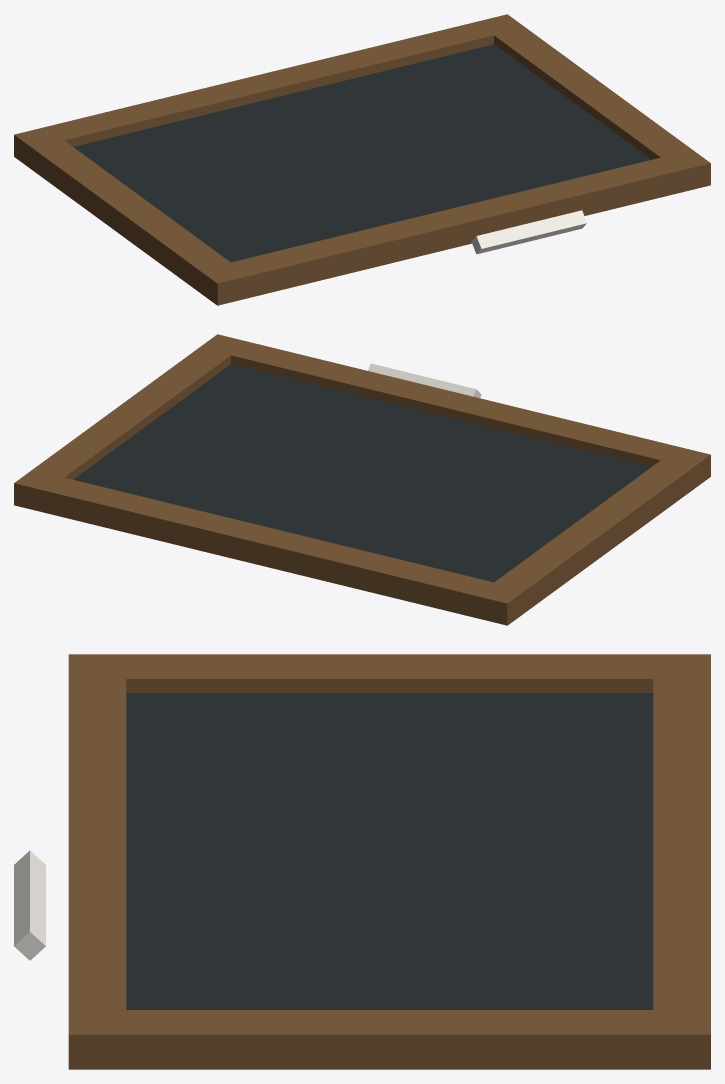
The model's file is Prop_YTM_Slate_LOD1.glb.
3 renders of one model, top to bottom at view 1: azimuth 30°, elevation 25°; view 2: azimuth 150°, elevation 25°; view 3: azimuth 270°, elevation 25°, orthographic. The views are drawn at different scales.
Visible parts, largest first — view 1: Prop_YTM_Slate; view 2: Prop_YTM_Slate; view 3: Prop_YTM_Slate.
Part boxes in pixels (x1,y1,x2,y2): Prop_YTM_Slate: [14, 14, 710, 305]; Prop_YTM_Slate: [14, 334, 710, 625]; Prop_YTM_Slate: [14, 654, 710, 1069].
Bounding box in the file's own units: 0.28 × 0.012 × 0.217.
